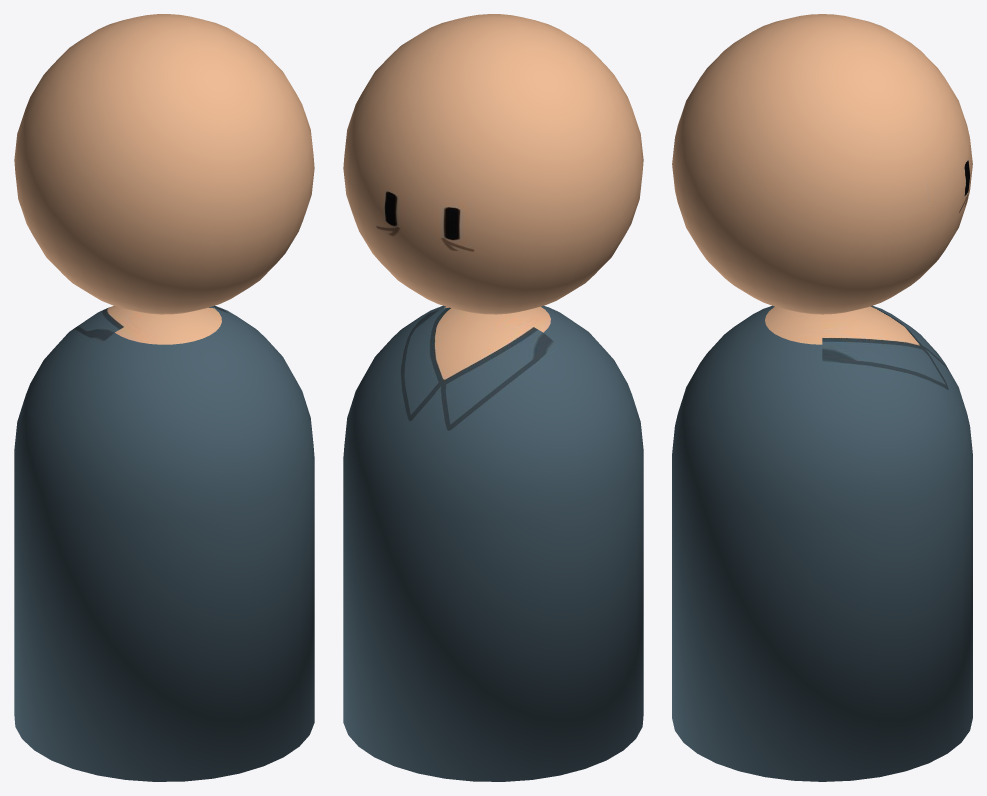
File: PersonnelEntretien.fbx
3 views of the same model, side by side, from view 1: azimuth 30°, elevation 25°; view 2: azimuth 150°, elevation 25°; view 3: azimuth 270°, elevation 25° (orthographic).
Parts seen in each view (by area): view 1: corp, tete; view 2: corp, tete; view 3: corp, tete.
Part boxes in pixels (x1,y1,x2,y2): corp: (14,305,314,781); tete: (14,14,314,314); corp: (343,305,643,781); tete: (343,14,643,314); corp: (672,305,972,781); tete: (672,14,972,314).
Bounding box in the file's own units: 120 × 304 × 120.
